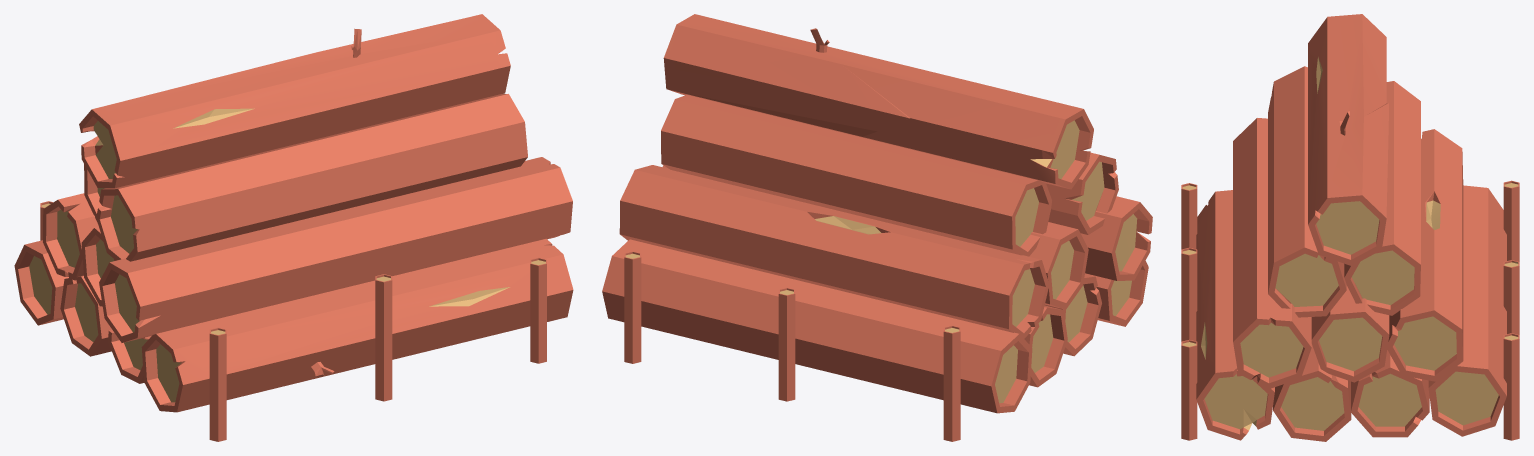
File: belki.fbx
3 views of the same model, side by side, from view 1: azimuth 30°, elevation 25°; view 2: azimuth 150°, elevation 25°; view 3: azimuth 270°, elevation 25° (orthographic). The views are drawn at different scales.
Parts seen in each view (by area): view 1: Cylinder_1_5_belki; view 2: Cylinder_1_5_belki; view 3: Cylinder_1_5_belki.
Part boxes in pixels (x1,y1,x2,y2): Cylinder_1_5_belki: (14, 14, 573, 441); Cylinder_1_5_belki: (602, 14, 1152, 441); Cylinder_1_5_belki: (1181, 14, 1519, 441).
Bounding box in the file's own units: 587 × 381 × 418.
